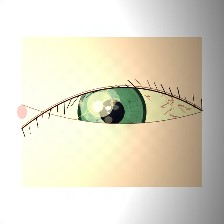corneal_ulcer: (79, 87, 122, 122)
